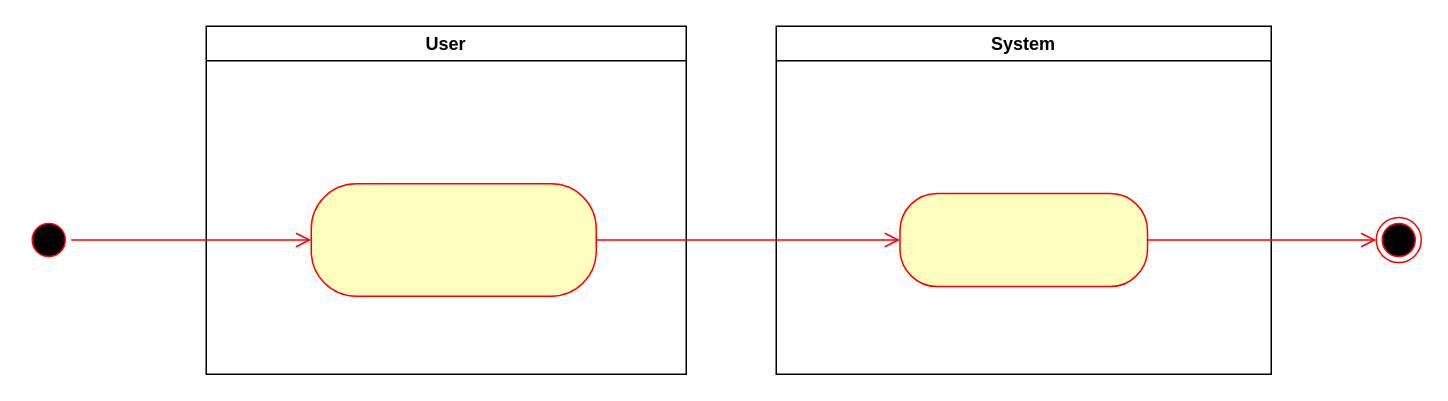
This 1448x401 diagram has some shape labels left out. Each missing label, with the centre of its shape:
(1) On "left menu" click " Product Management – List Industry ": (x=453, y=239)
(2) Load " List Industry(seller) " Screen: (x=1023, y=239)
